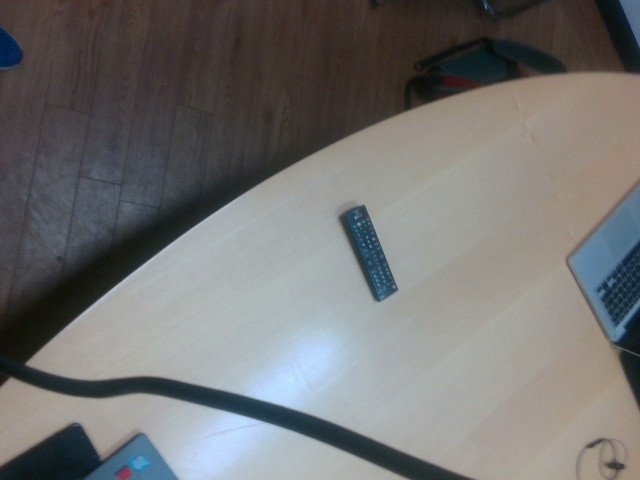remote: (340, 204, 400, 302)
